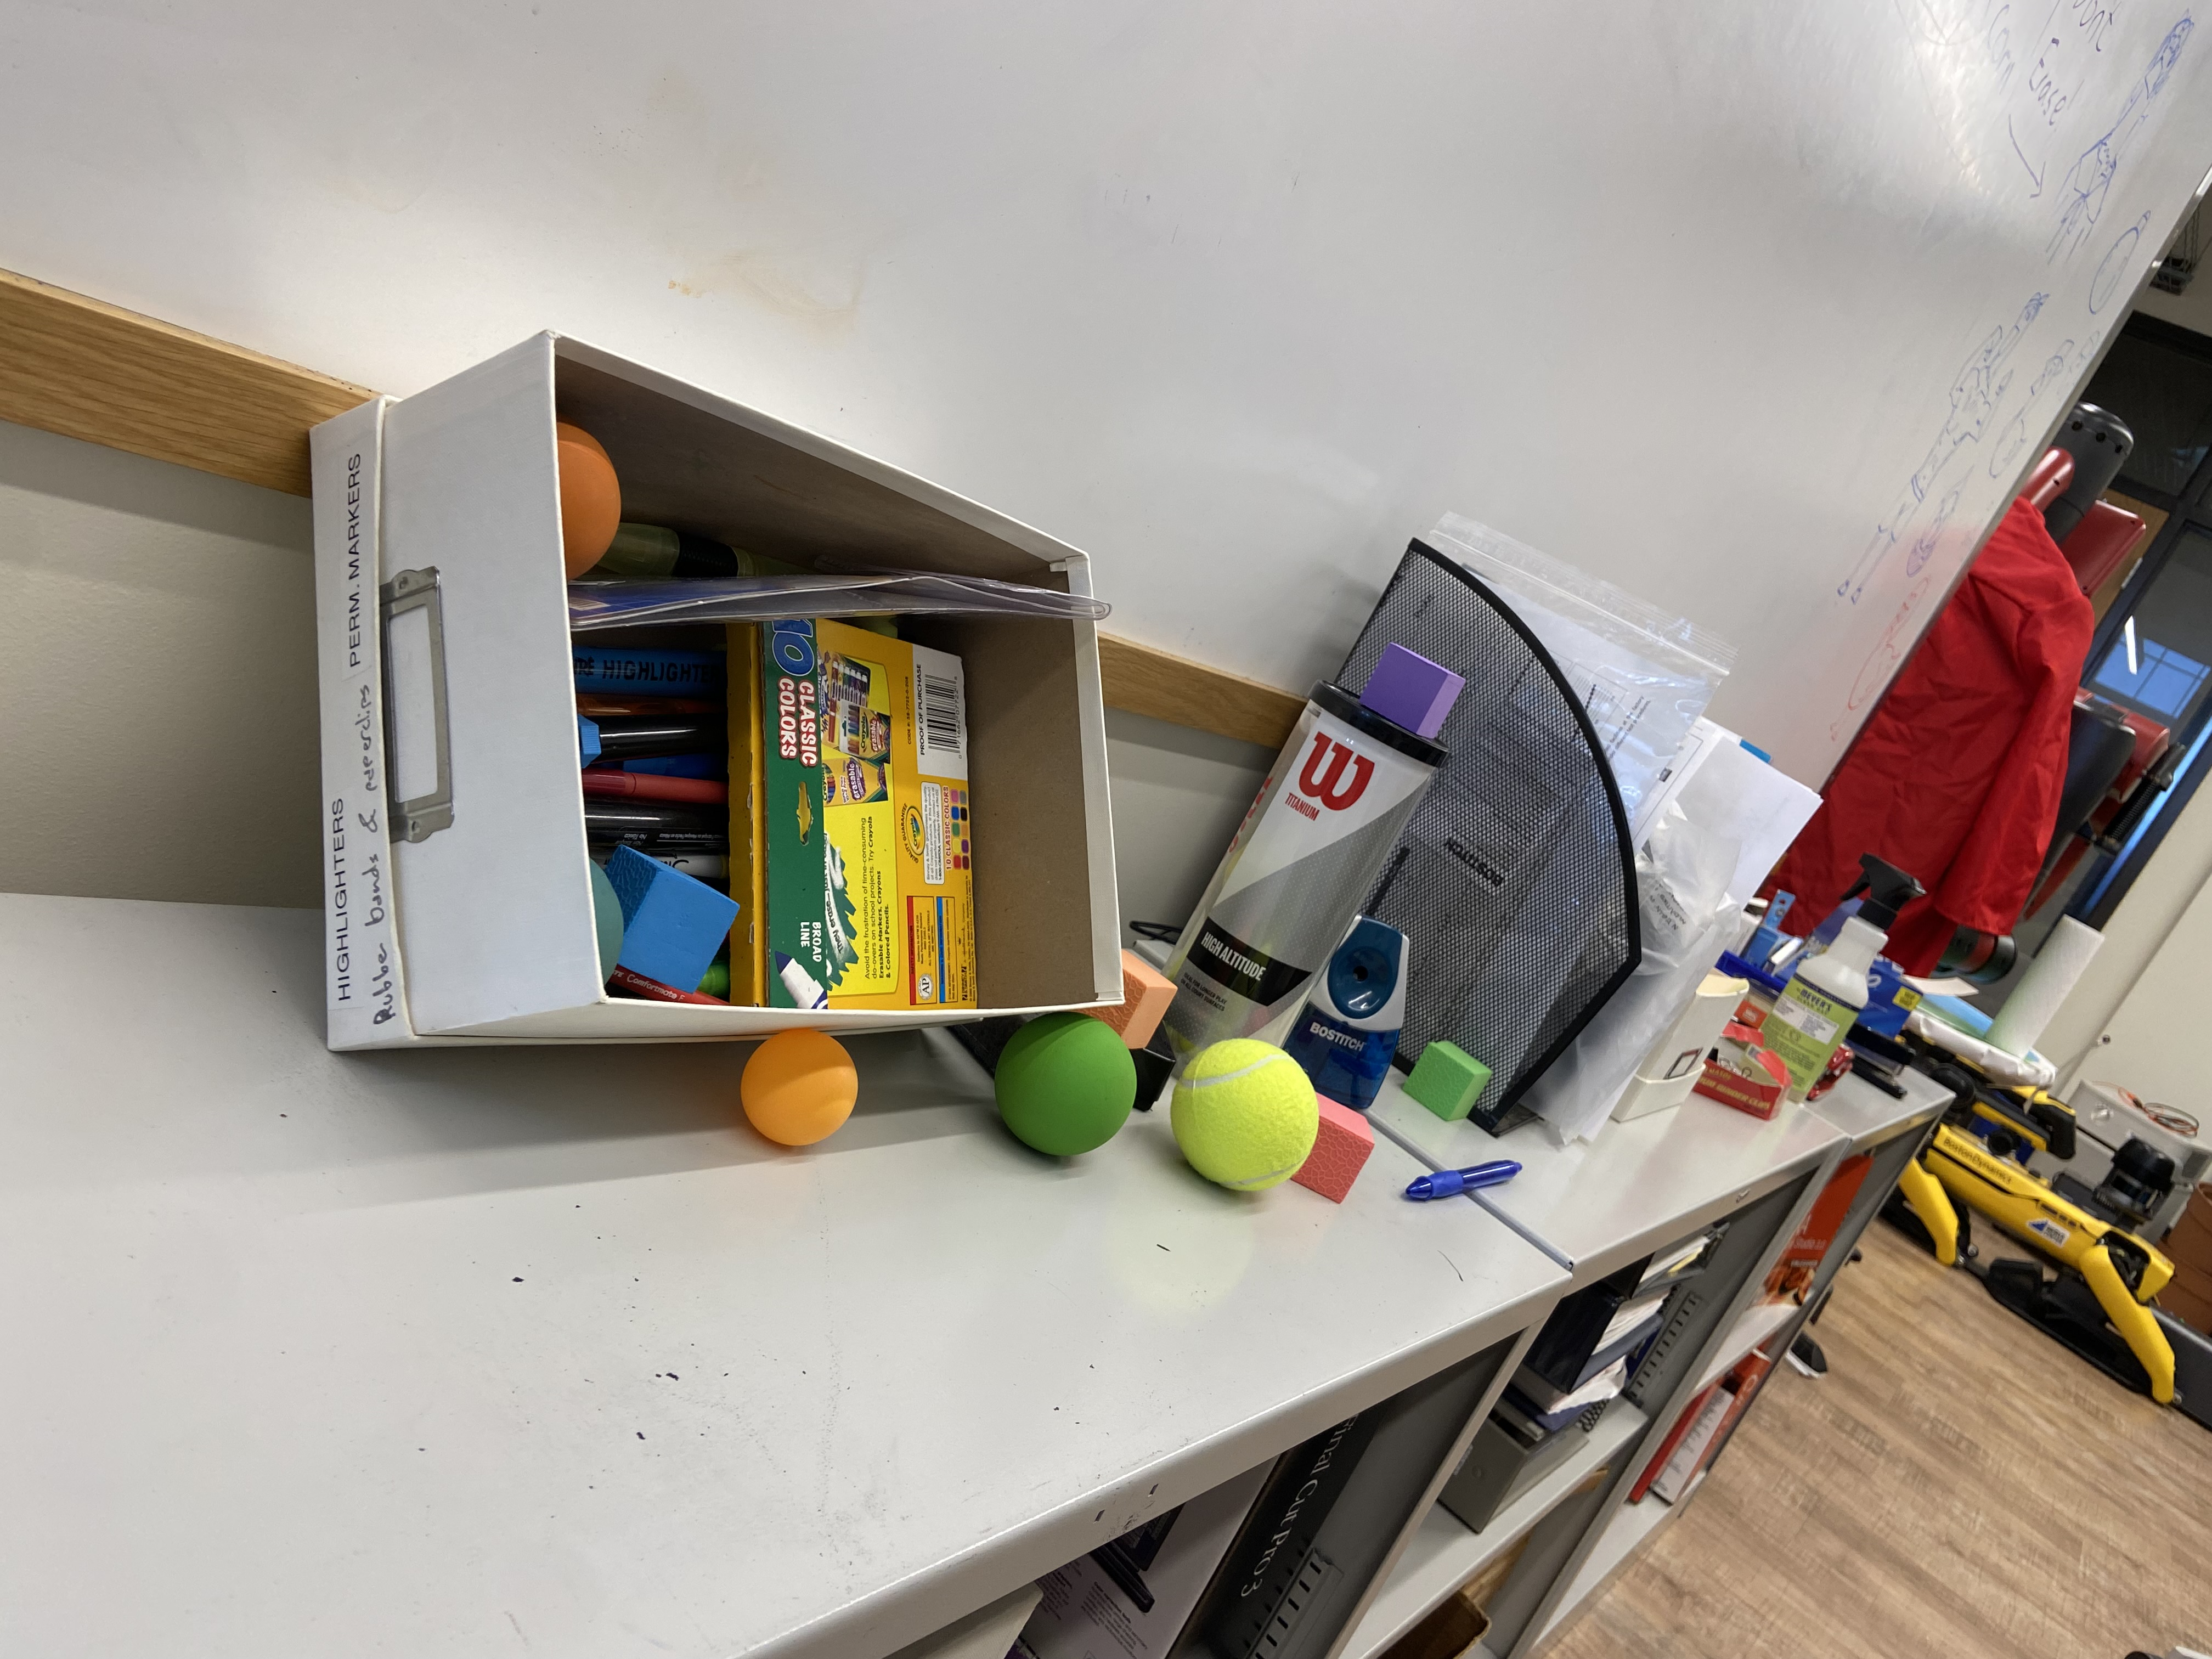Cube: (603, 843, 749, 993), (1360, 647, 1465, 735), (1407, 1030, 1496, 1124), (1294, 1112, 1372, 1202), (1104, 960, 1181, 1049)
ball: (991, 1004, 1134, 1155), (1176, 1047, 1320, 1190), (740, 1030, 857, 1145), (557, 430, 624, 580)
